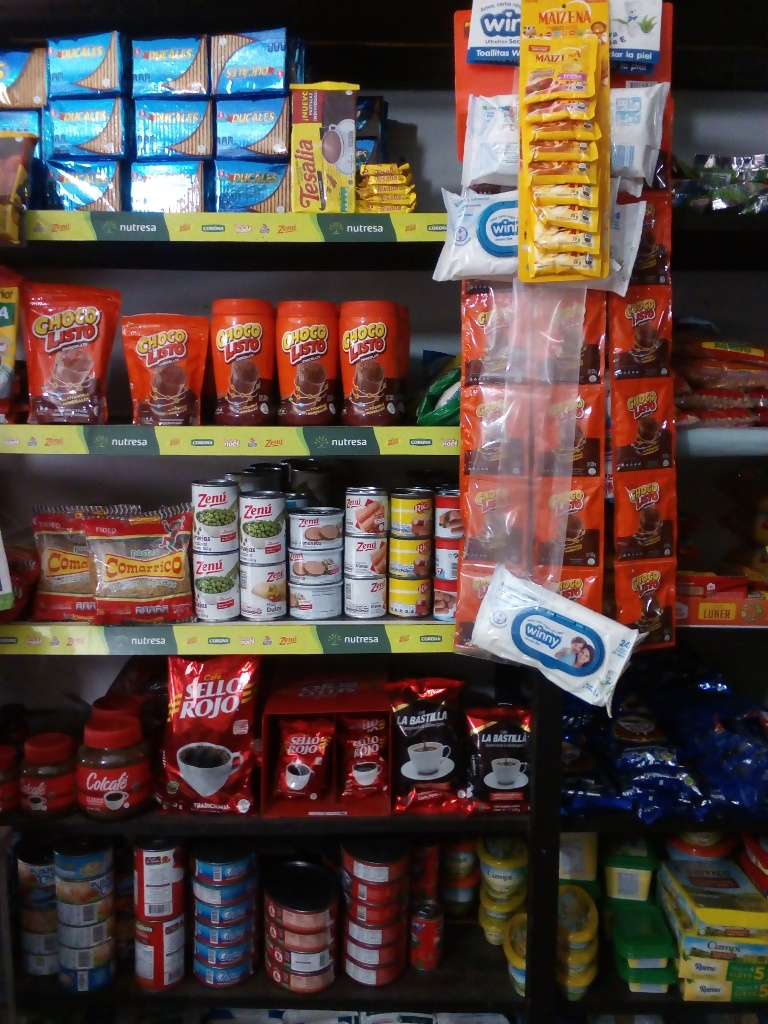COL0170103SOB02000: (541, 569, 607, 617)
